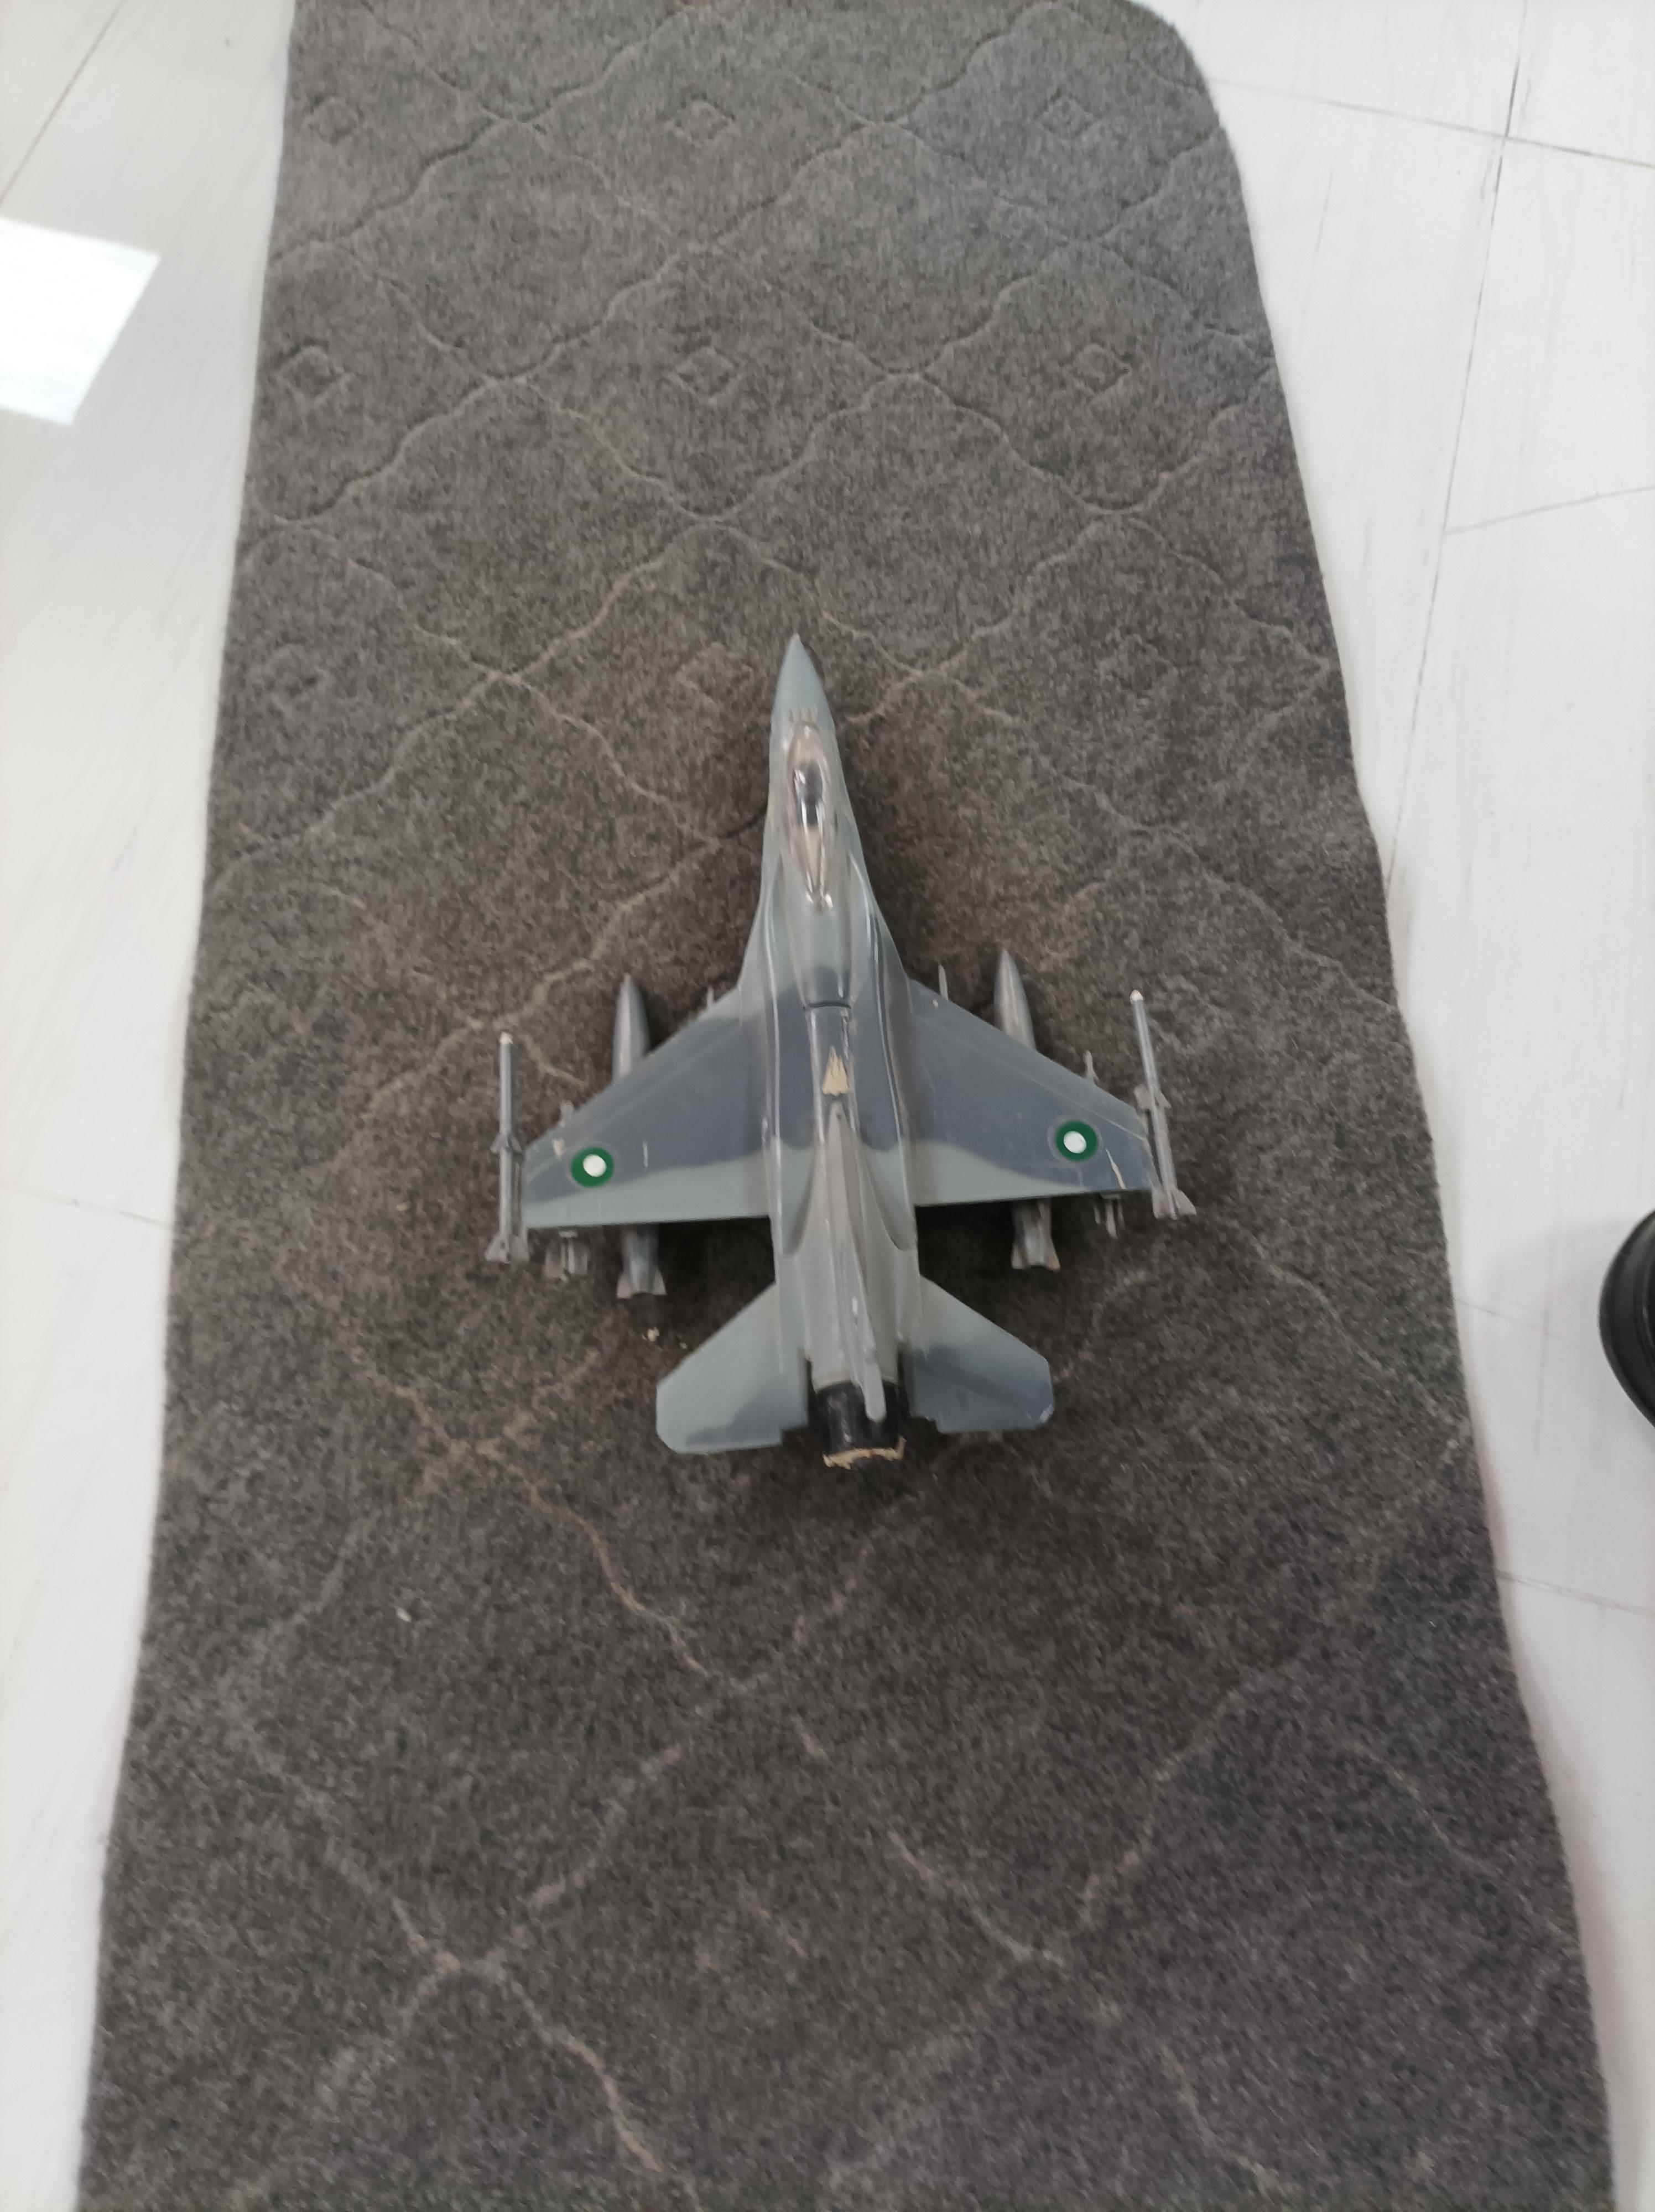Airplane: (468, 612, 1226, 1507)
